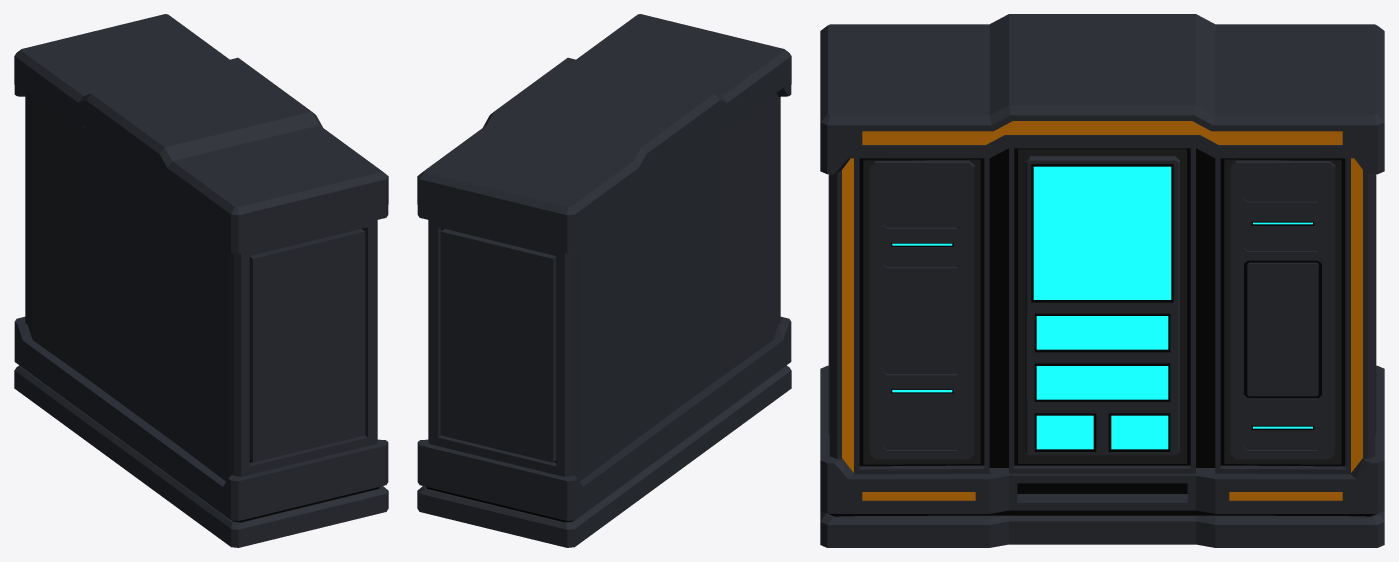
The model's file is SM_Server_V2.fbx.
The picture shows the model from 3 angles, left to right: view 1: azimuth 30°, elevation 25°; view 2: azimuth 150°, elevation 25°; view 3: azimuth 270°, elevation 25°; orthographic projection. The views are drawn at different scales.
Parts seen in each view (by area): view 1: SM_Server_V2; view 2: SM_Server_V2; view 3: SM_Server_V2.
Part boxes in pixels (box(x1,y1,x2,y2)): SM_Server_V2: box(14, 14, 388, 547); SM_Server_V2: box(417, 14, 791, 547); SM_Server_V2: box(820, 14, 1384, 547).
Bounding box in the file's own units: 90 × 189 × 220.
